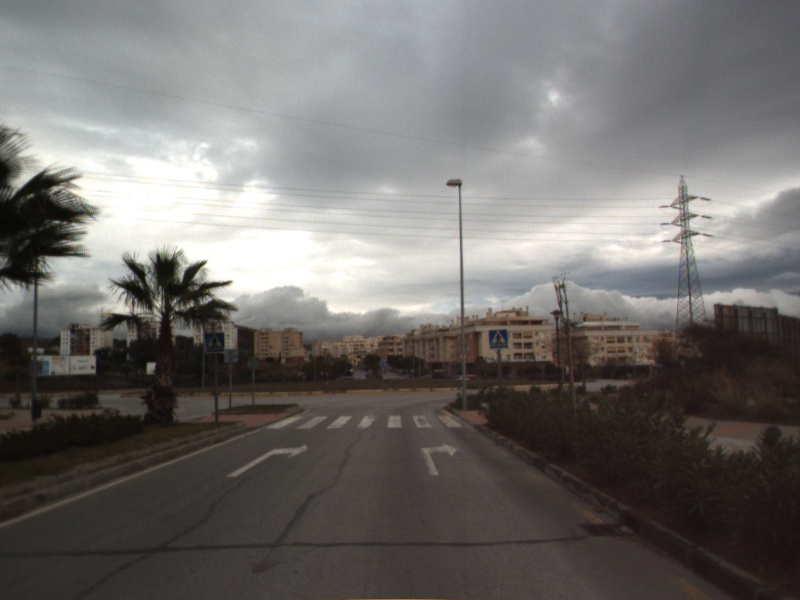RIGHT: (224, 442, 310, 479), (419, 440, 460, 477)
